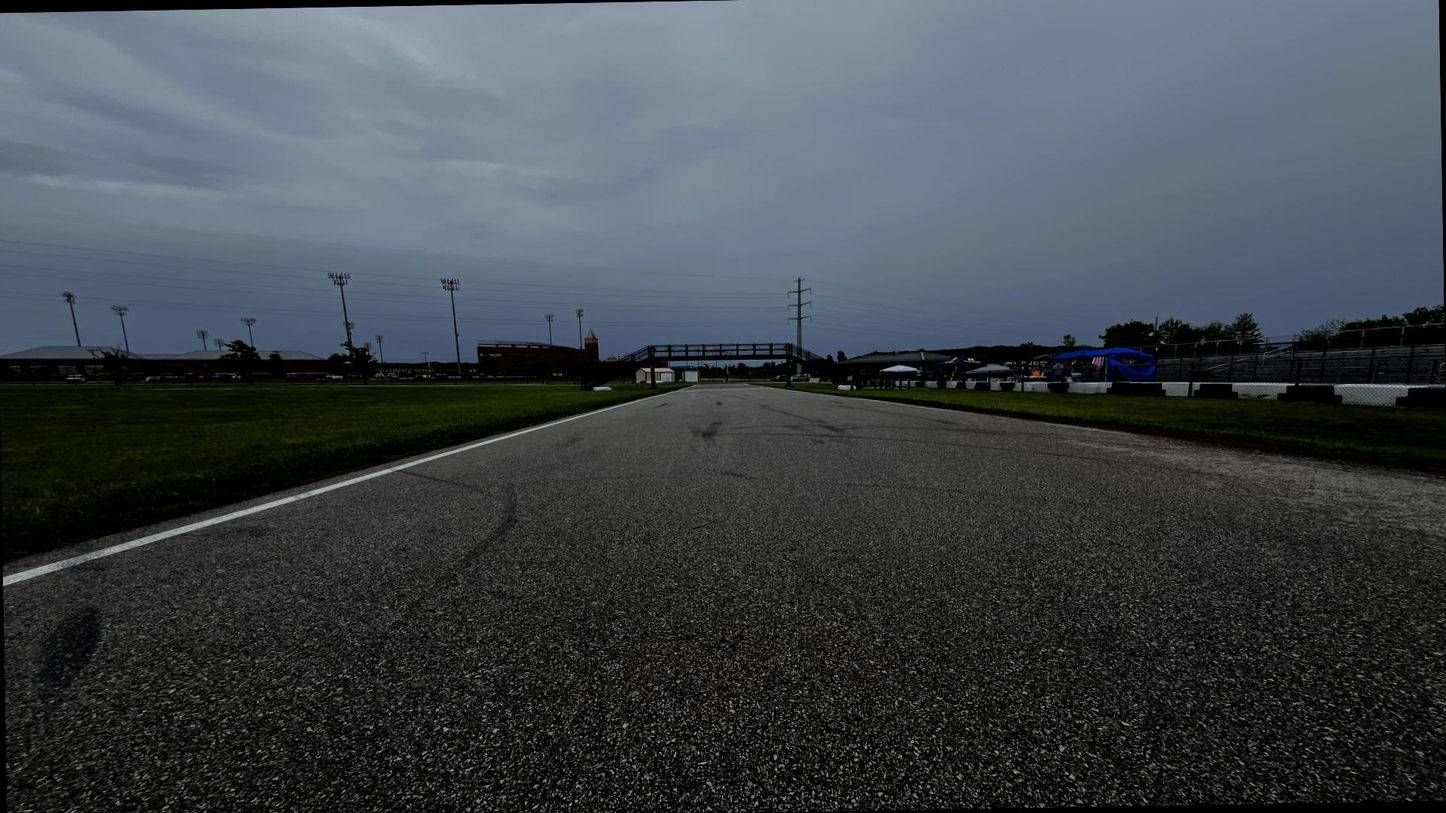white-line: (3, 393, 670, 587), (779, 389, 1136, 436), (678, 386, 693, 391), (755, 384, 773, 388)
